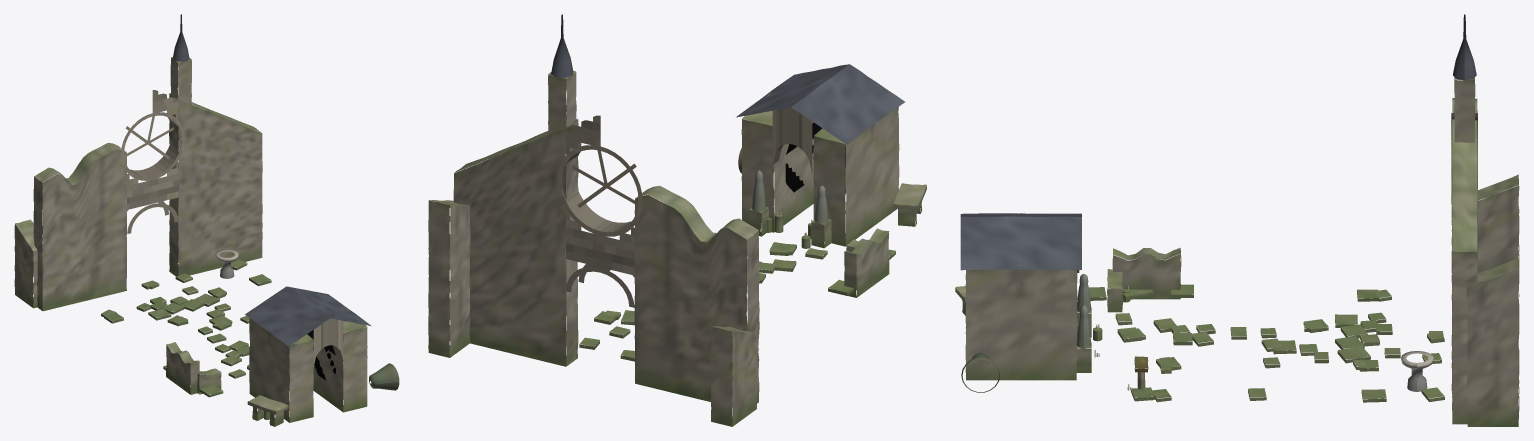
File: hollow_crypt_entrance.glb
3 views of the same model, side by side, from view 1: azimuth 30°, elevation 25°; view 2: azimuth 150°, elevation 25°; view 3: azimuth 270°, elevation 25° (orthographic). The views are drawn at different scales.
Visible parts, largest first — view 1: Entrance_Gable, Entrance_StairHouse, Entrance_Details; view 2: Entrance_Gable, Entrance_StairHouse, Entrance_Details; view 3: Entrance_StairHouse, Entrance_Gable, Entrance_Details.
Part boxes in pixels (x1,y1,x2,y2): Entrance_Gable: (14,14,262,311); Entrance_StairHouse: (245,286,371,422); Entrance_Details: (101,249,399,426); Entrance_Gable: (428,14,759,426); Entrance_StairHouse: (736,64,904,248); Entrance_Details: (579,148,926,361); Entrance_StairHouse: (960,213,1091,380); Entrance_Gable: (1451,14,1519,426); Entrance_Details: (955,247,1444,402).
Size of the model in its own units: 19.97 by 21.91 by 30.88.
